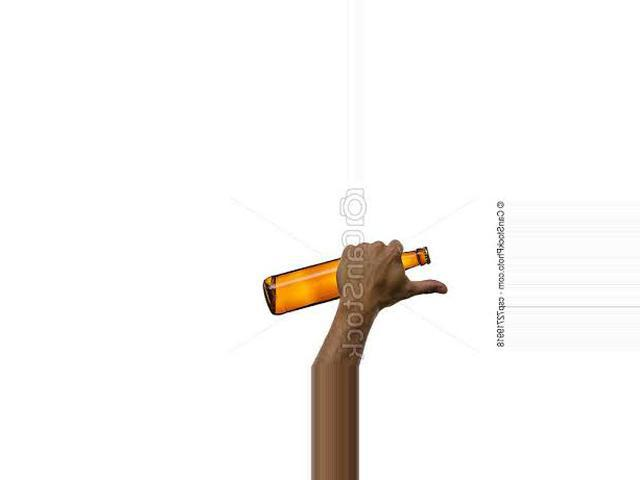beer: (263, 248, 429, 315)
